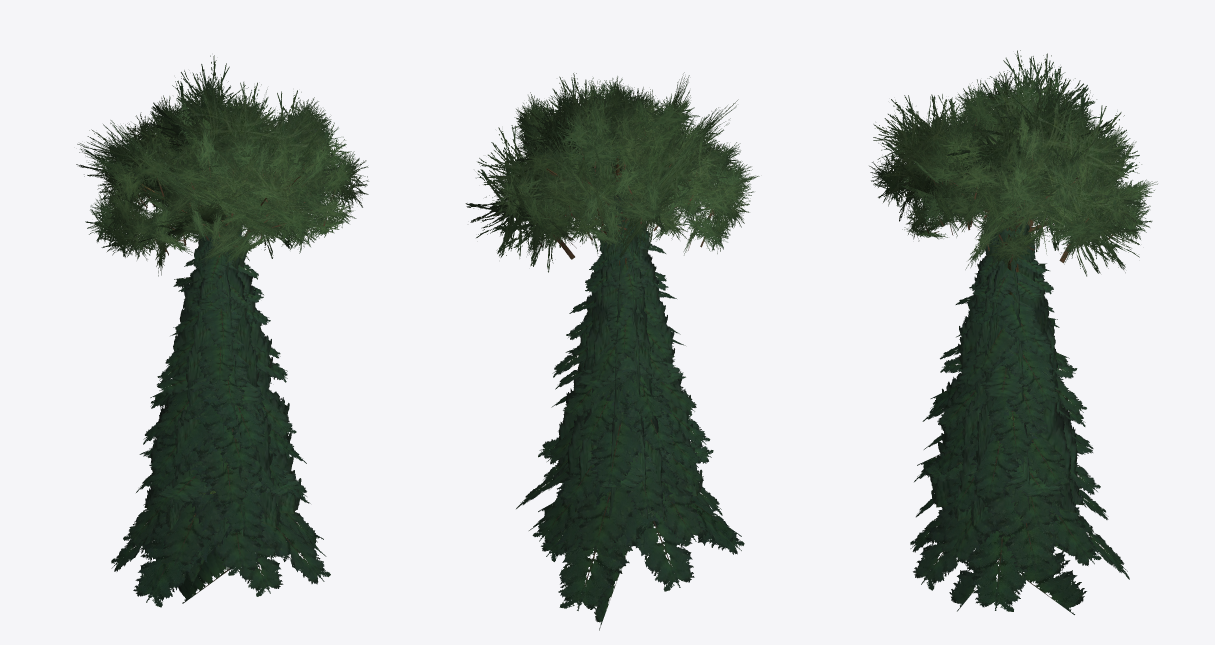
The model's file is garden.glb.
The picture shows the model from 3 angles, left to right: view 1: azimuth 30°, elevation 25°; view 2: azimuth 150°, elevation 25°; view 3: azimuth 270°, elevation 25°; orthographic projection. The views are drawn at different scales.
Visible parts, largest first — view 1: conifer_spruce_LOD0, conifer_pine_LOD0, conifer_pine_FAR, conifer_spruce_FAR; view 2: conifer_spruce_LOD0, conifer_pine_LOD0, conifer_pine_FAR, conifer_spruce_FAR; view 3: conifer_spruce_LOD0, conifer_pine_LOD0, conifer_pine_FAR, conifer_spruce_FAR.
Boxes of the visible parts, left/top/right/bottom form: conifer_spruce_LOD0: left=111, top=203, right=330, bottom=607; conifer_pine_LOD0: left=85, top=73, right=368, bottom=276; conifer_pine_FAR: left=76, top=55, right=356, bottom=258; conifer_spruce_FAR: left=139, top=214, right=302, bottom=536; conifer_spruce_LOD0: left=516, top=186, right=744, bottom=630; conifer_pine_LOD0: left=491, top=76, right=759, bottom=331; conifer_pine_FAR: left=465, top=72, right=738, bottom=272; conifer_spruce_FAR: left=538, top=185, right=713, bottom=518; conifer_spruce_LOD0: left=910, top=214, right=1129, bottom=614; conifer_pine_LOD0: left=869, top=72, right=1157, bottom=272; conifer_pine_FAR: left=873, top=50, right=1145, bottom=294; conifer_spruce_FAR: left=924, top=221, right=1092, bottom=525.
Size of what is drawn, in the model's own units: 9.28 by 17.76 by 10.3.
1 material, 1 textured.
